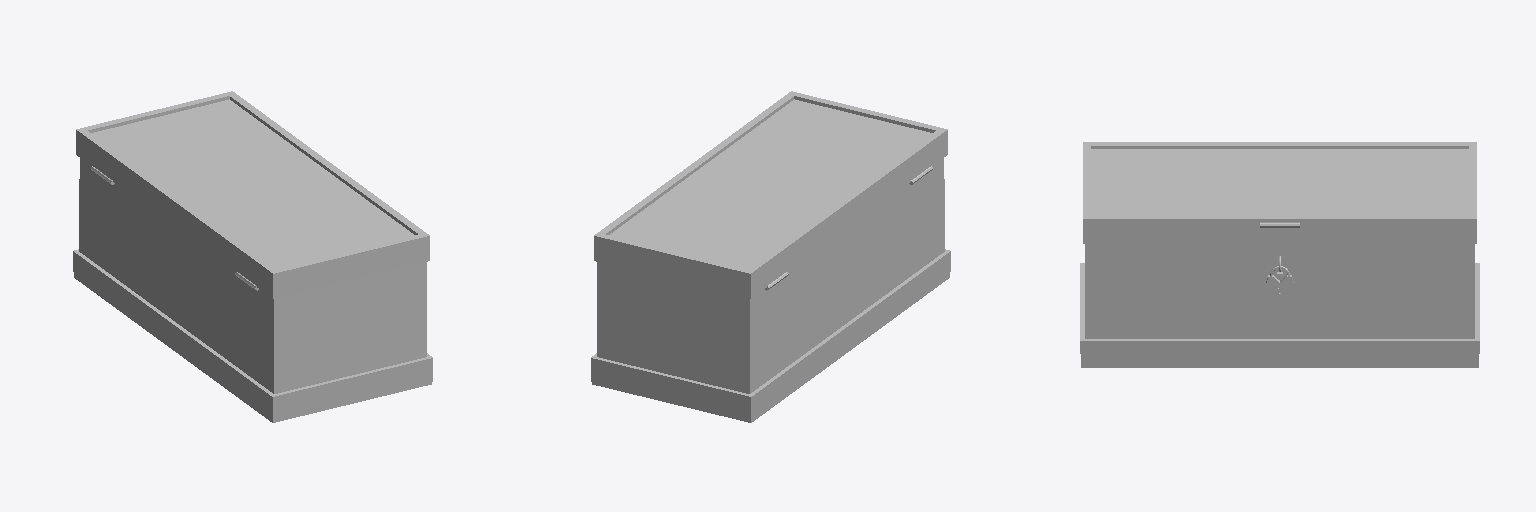
File: Chest.obj
The picture shows the model from 3 angles: view 1: azimuth 30°, elevation 25°; view 2: azimuth 150°, elevation 25°; view 3: azimuth 270°, elevation 25°; orthographic projection.
Parts seen in each view (by area): view 1: Box001; view 2: Box001; view 3: Box001.
Boxes of the visible parts, <box> form: Box001: <box>73,91,432,422</box>; Box001: <box>591,91,950,422</box>; Box001: <box>1080,142,1479,367</box>.
Bounding box in the file's own units: 8.37 × 7.11 × 17.37.